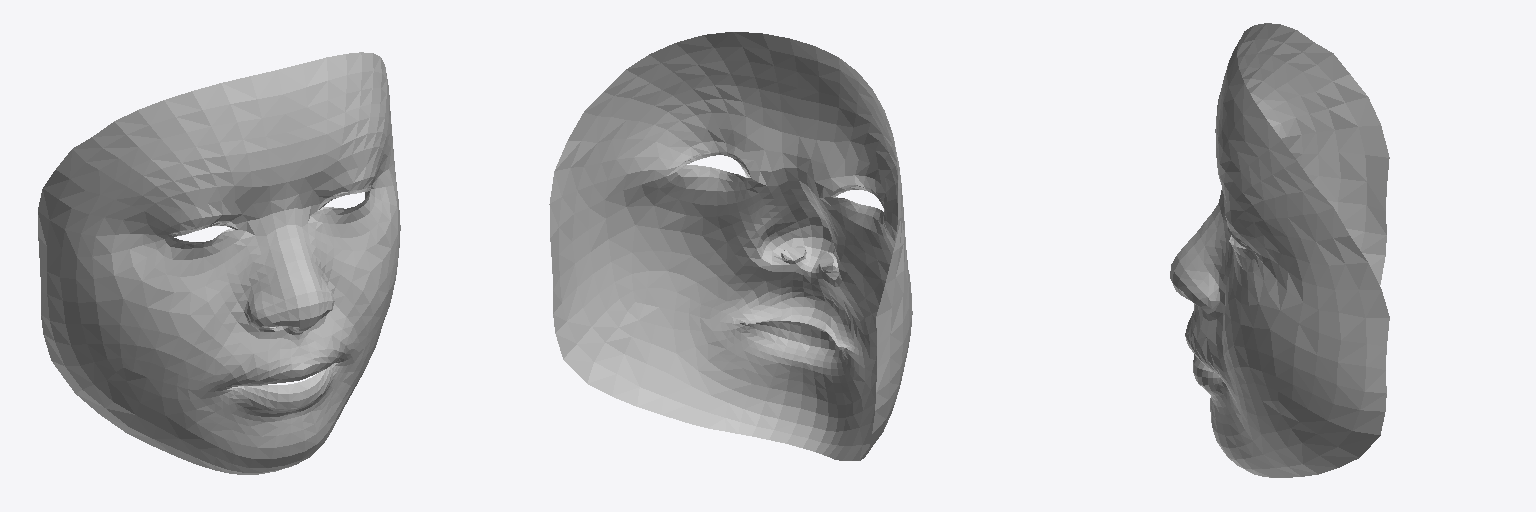
Rendered from eyeLookOut_R.obj.
3 views of the same model, side by side, from view 1: azimuth 30°, elevation 25°; view 2: azimuth 150°, elevation 25°; view 3: azimuth 270°, elevation 25° (orthographic).
Parts seen in each view (by area): view 1: default; view 2: default; view 3: default.
Part boxes in pixels (bbox=[...]): default: bbox=[38, 52, 400, 474]; default: bbox=[549, 32, 912, 460]; default: bbox=[1170, 23, 1389, 477].
Size of the model in its own units: 0.1624 by 0.1851 by 0.0913.